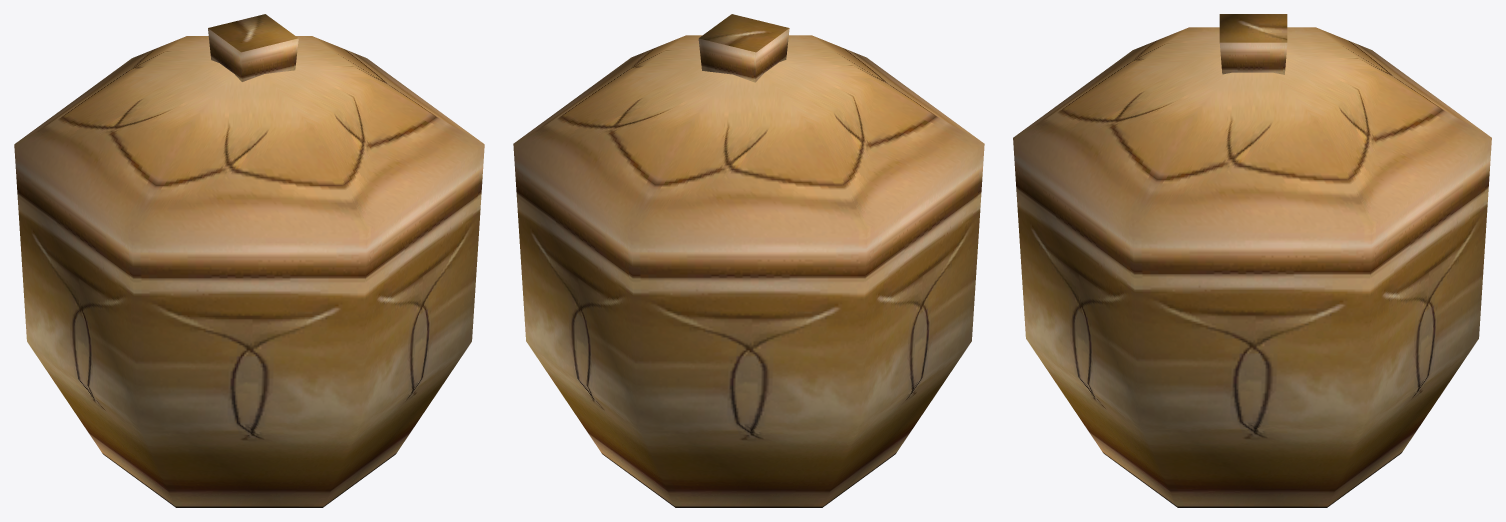
File: jar03.obj
3 renders of one model, left to right at view 1: azimuth 30°, elevation 25°; view 2: azimuth 150°, elevation 25°; view 3: azimuth 270°, elevation 25°, orthographic.
Visible parts, largest first — view 1: jar03; view 2: jar03; view 3: jar03.
Part boxes in pixels (box(x1,y1,x2,y2)): jar03: box(14, 14, 484, 507); jar03: box(513, 14, 984, 507); jar03: box(1013, 14, 1491, 507).
Bounding box in the file's own units: 0.465 × 0.5285 × 0.5369.
Materials: 1 (1 with a texture image).
